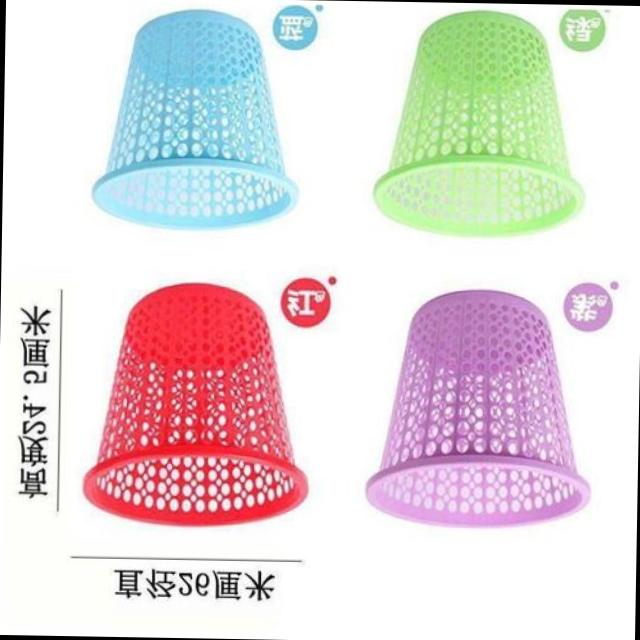dustbin: (80, 278, 314, 536), (358, 286, 596, 538), (366, 3, 594, 246), (86, 5, 304, 238)
